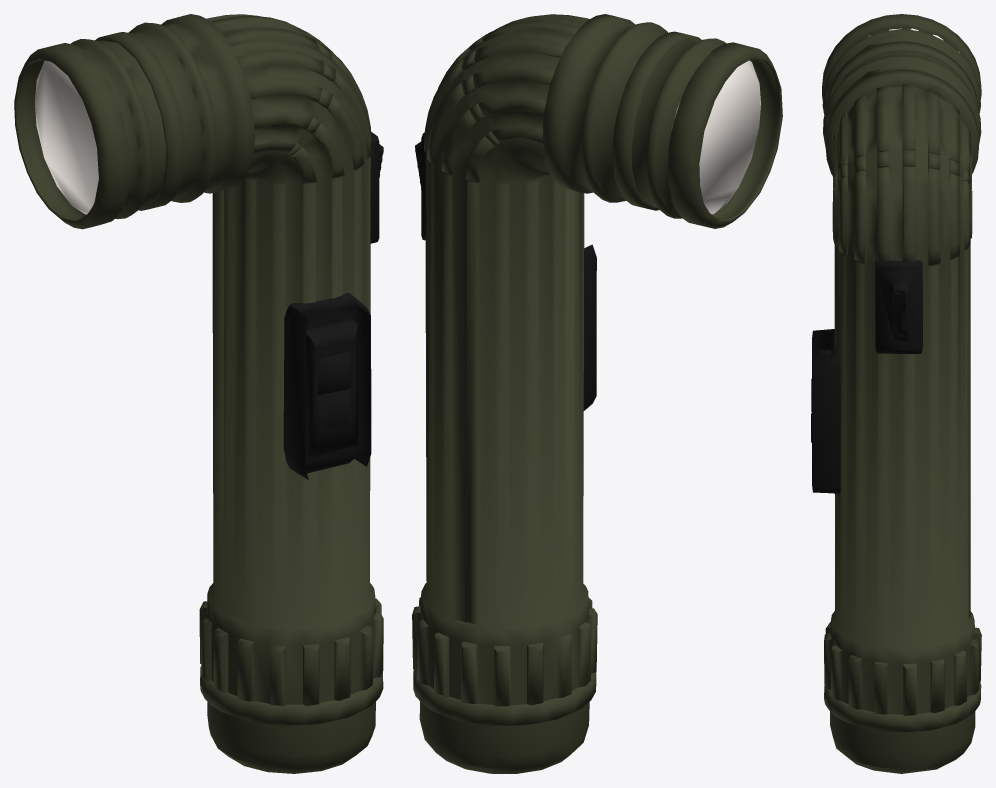
File: flashlight.glb
3 views of the same model, side by side, from view 1: azimuth 30°, elevation 25°; view 2: azimuth 150°, elevation 25°; view 3: azimuth 270°, elevation 25° (orthographic). The views are drawn at different scales.
Visible parts, largest first — view 1: Fulton; view 2: Fulton; view 3: Fulton.
Part boxes in pixels (x1,y1,x2,y2): Fulton: (14,14,383,773); Fulton: (412,14,782,773); Fulton: (811,14,981,773).
Size of the model in its own units: 0.0854 by 0.1899 by 0.0456.
